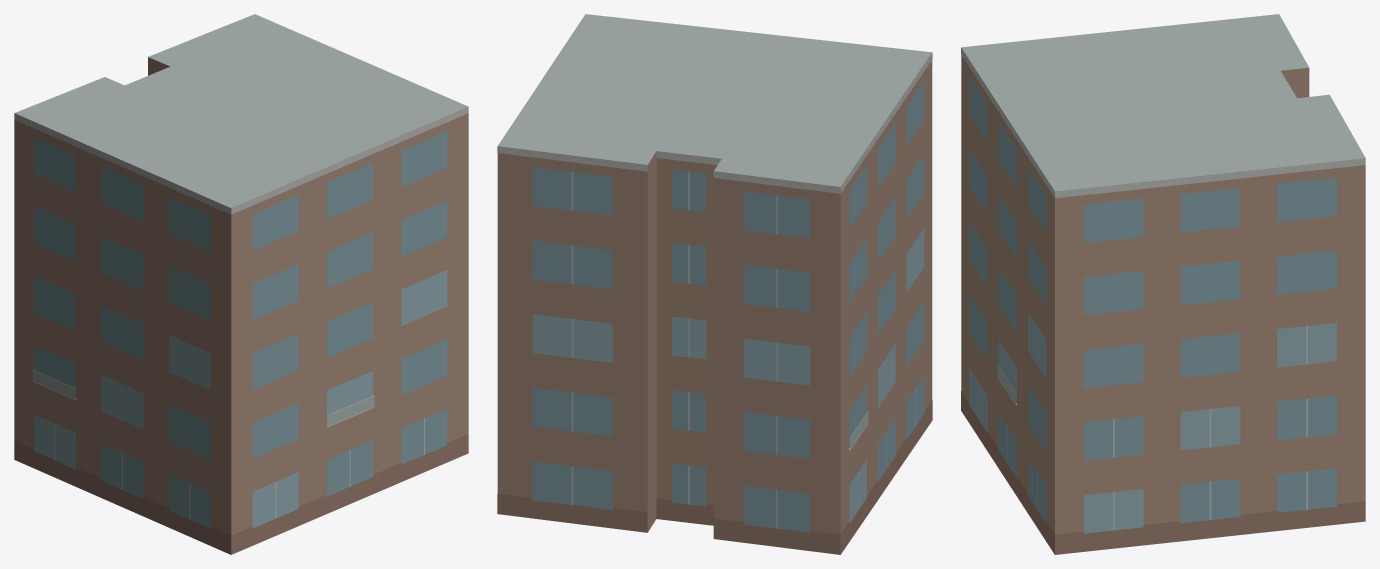
File: survey-upis-32717054.glb
3 views of the same model, side by side, from view 1: azimuth 30°, elevation 25°; view 2: azimuth 150°, elevation 25°; view 3: azimuth 270°, elevation 25° (orthographic). The views are drawn at different scales.
Visible parts, largest first — view 1: survey-upis-32717054.tmp; view 2: survey-upis-32717054.tmp; view 3: survey-upis-32717054.tmp.
Boxes of the visible parts, box(x1,y1,x2,y2) form: survey-upis-32717054.tmp: box(14, 14, 468, 554); survey-upis-32717054.tmp: box(497, 14, 932, 554); survey-upis-32717054.tmp: box(961, 14, 1365, 554).
Size of the model in its own units: 13.64 by 13 by 13.13.
